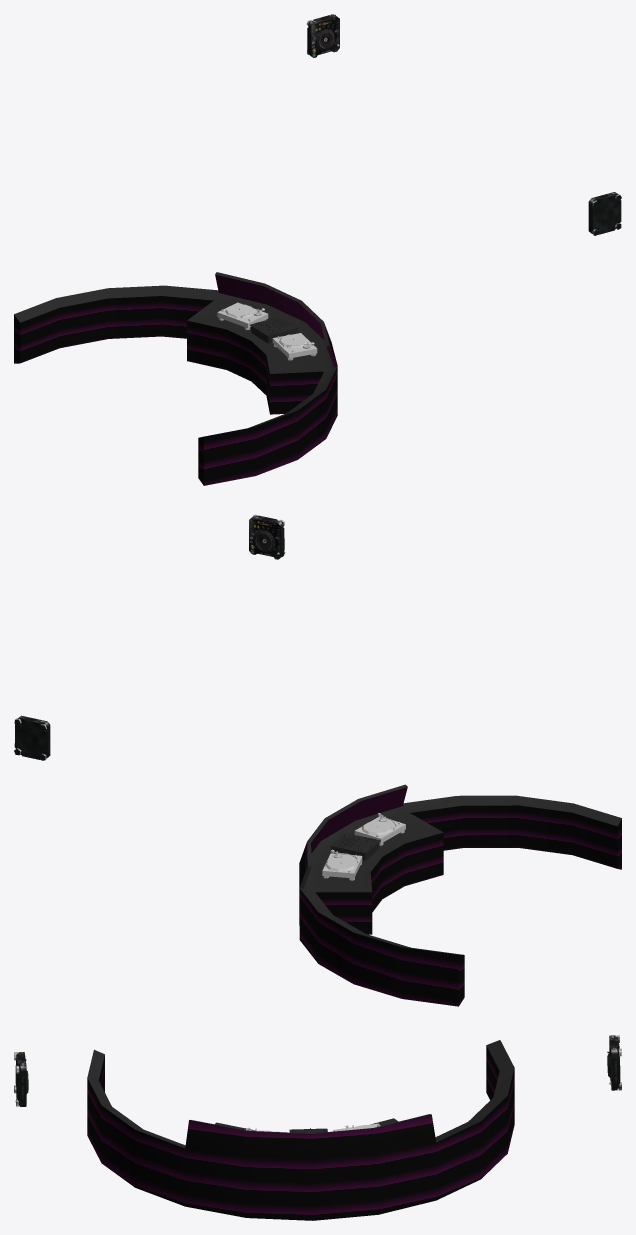
The model's file is MeshBaker (5)-mesh-mesh.fbx.
3 renders of one model, top to bottom at view 1: azimuth 30°, elevation 25°; view 2: azimuth 150°, elevation 25°; view 3: azimuth 270°, elevation 25°, orthographic. The views are drawn at different scales.
Visible parts, largest first — view 1: MeshBaker__5__mesh_mesh; view 2: MeshBaker__5__mesh_mesh; view 3: MeshBaker__5__mesh_mesh.
Part boxes in pixels (x1,y1,x2,y2): MeshBaker__5__mesh_mesh: [14, 14, 621, 485]; MeshBaker__5__mesh_mesh: [14, 514, 621, 1006]; MeshBaker__5__mesh_mesh: [14, 1035, 621, 1220].
Size of the model in its own units: 850 by 448 by 947.
